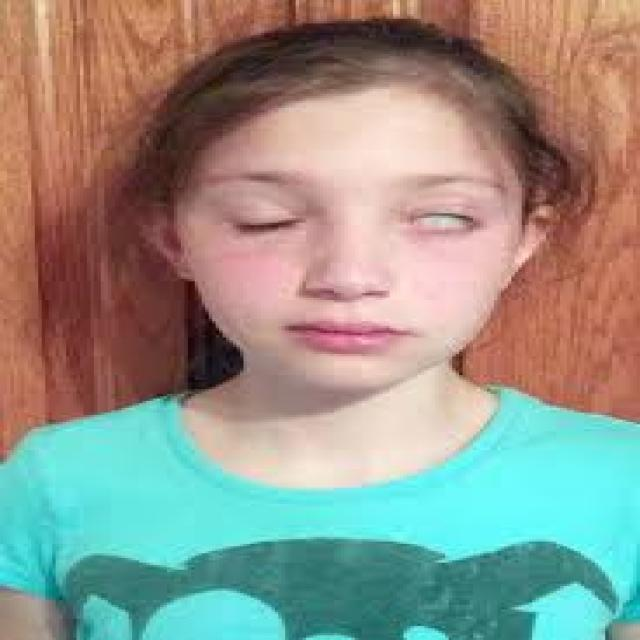stroke_face: (189, 68, 640, 427)
